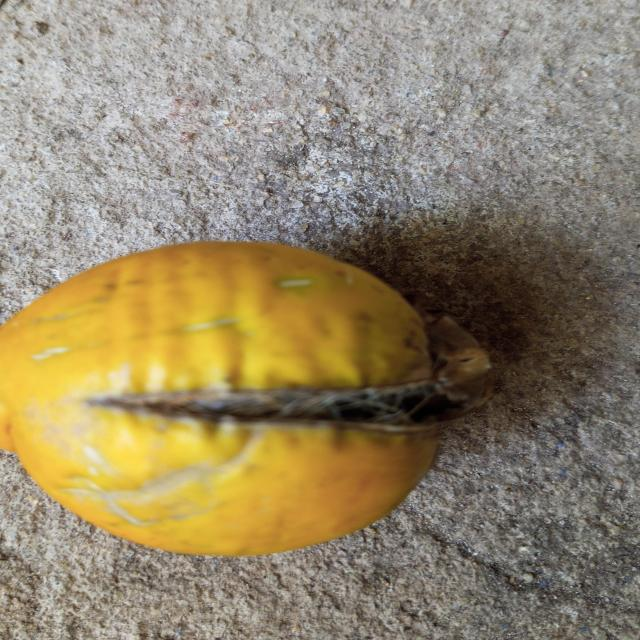damaged: (0, 242, 492, 555)
